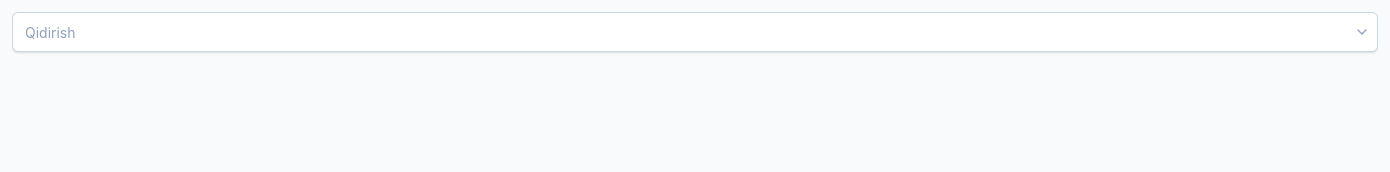
it: Combobox › topilmasa xabar
In the dropdown: (695,32) top-left (12, 12), bottom-right (1378, 52), type "zzz"
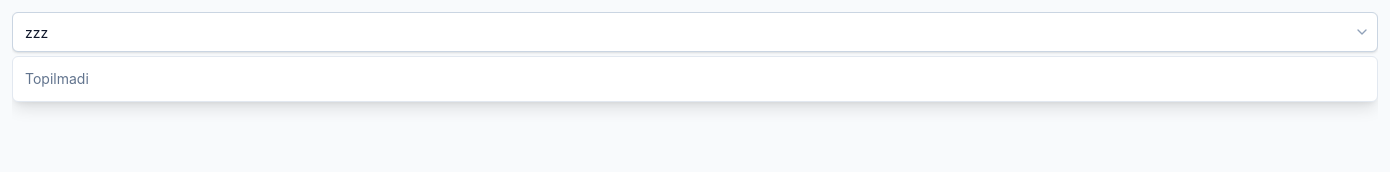
expect the list reads "Topilmadi": met, box top-left (25, 70), bottom-right (89, 87)
